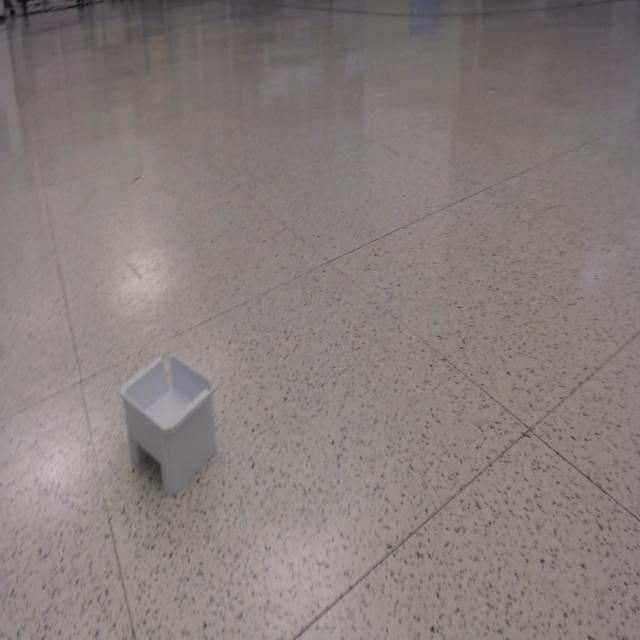wbox: (119, 348, 218, 499)
